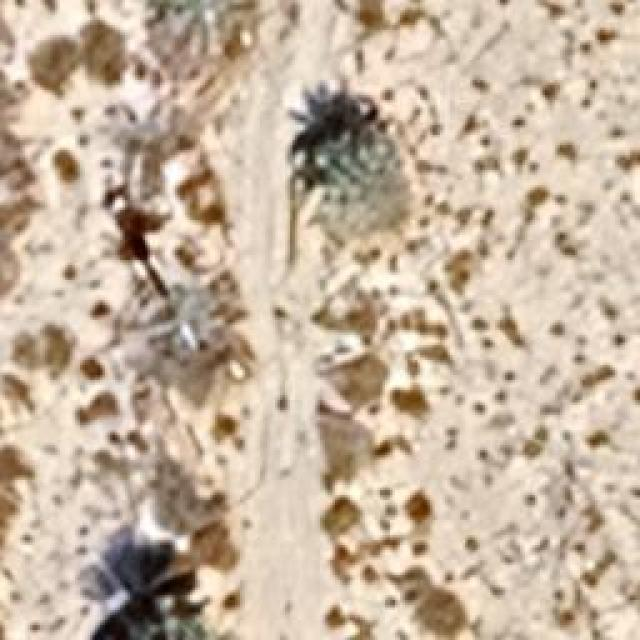PalmTree: (107, 79, 182, 324), (288, 98, 394, 208), (90, 177, 197, 277), (90, 560, 190, 640), (108, 30, 205, 79)
